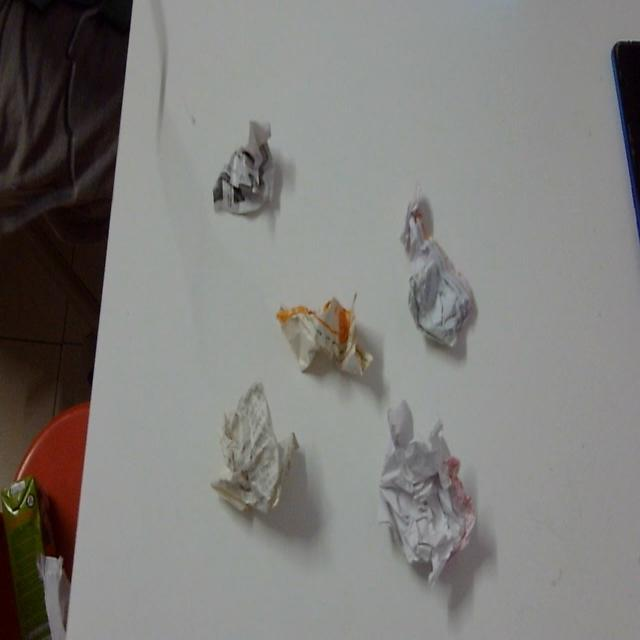paperrotation: (374, 398, 483, 592), (383, 183, 489, 360), (208, 378, 306, 530), (271, 271, 382, 388), (208, 115, 284, 222)
